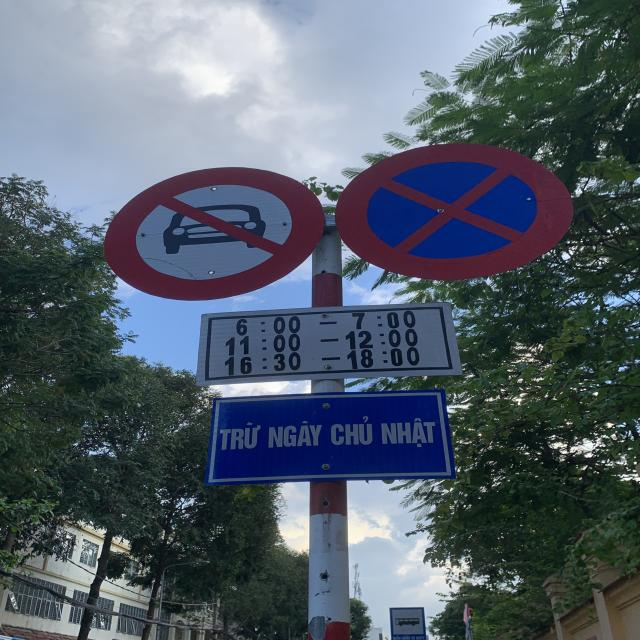Cam_Dung_Va_Dau_Xe: (337, 143, 575, 281)
Cam_O_To: (105, 166, 326, 303)
